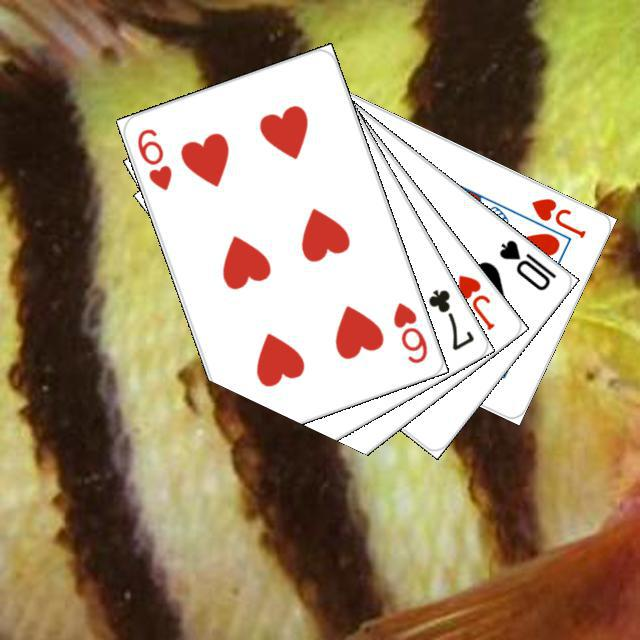10s: (494, 234, 558, 293)
6h: (132, 123, 174, 192), (388, 297, 429, 365)
7c: (423, 284, 476, 352)
Jh: (526, 192, 588, 240), (452, 269, 497, 332)
